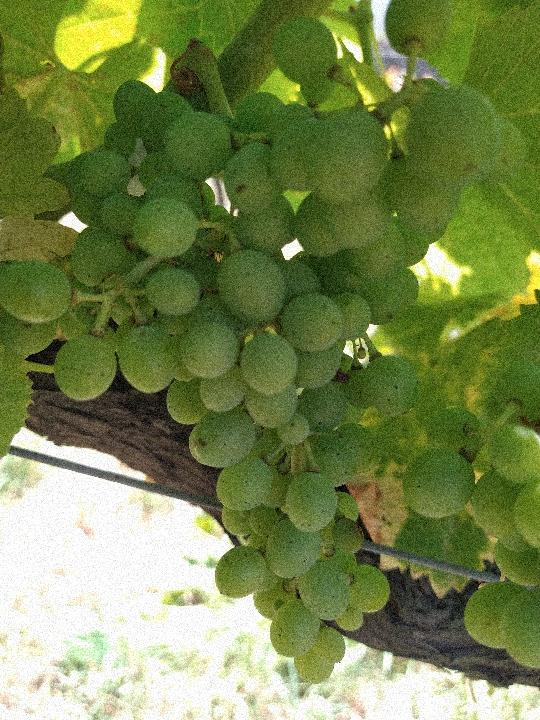grape: (3, 2, 526, 690)
